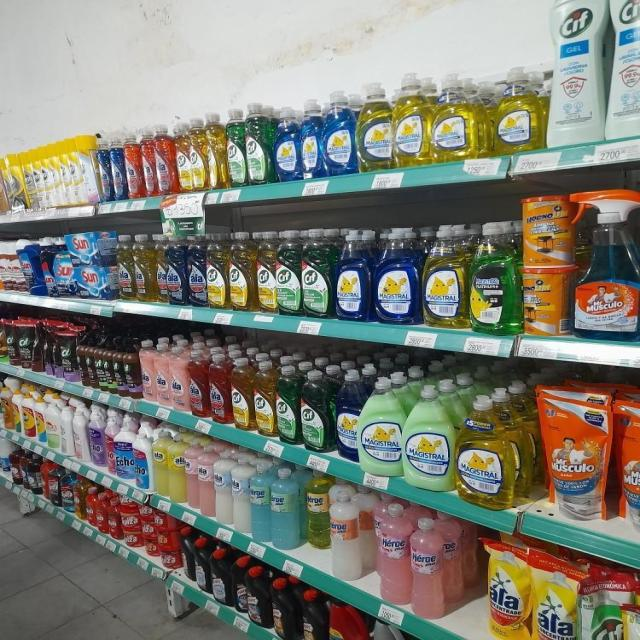ala_conc_amarillo: (134, 233, 154, 302), (118, 233, 134, 300), (154, 233, 168, 304)
ala_conc_azul: (165, 233, 186, 306), (187, 233, 206, 307), (111, 132, 125, 200), (99, 131, 112, 202)
ala_conc_rojo: (209, 352, 230, 423), (156, 122, 175, 196), (189, 350, 208, 418), (125, 127, 141, 199), (141, 125, 156, 197)
ala_crem_blanco: (215, 449, 232, 526)
ala_crem_rosado: (198, 443, 215, 517), (186, 438, 198, 512)
ala_sachet_amarillo: (485, 541, 530, 640), (533, 555, 578, 640)
ala_ultra_rosa: (170, 343, 188, 413), (155, 341, 170, 408)
cif_conc_bot_amarilla: (229, 231, 255, 311), (256, 230, 276, 313), (254, 359, 275, 437), (207, 232, 228, 309), (232, 356, 253, 432), (207, 112, 226, 190), (191, 115, 207, 192), (175, 120, 191, 193)
cif_conc_botella_verde: (302, 228, 334, 319), (302, 368, 332, 452), (246, 102, 272, 185), (277, 229, 301, 316), (276, 364, 300, 446), (227, 106, 246, 188)
cif_conc_sachet_amarillo: (624, 590, 640, 640)
cif_conc_sachet_verde: (582, 570, 622, 640)
heroe: (411, 516, 446, 620), (376, 502, 410, 608), (330, 484, 365, 582), (271, 466, 302, 550), (305, 470, 329, 550), (251, 461, 270, 544)
magistral_con_amarillo: (456, 394, 513, 508), (422, 223, 468, 329), (492, 66, 542, 154), (432, 72, 479, 162), (394, 72, 429, 167), (358, 82, 392, 172)
magistral_con_azul: (374, 227, 420, 325), (336, 228, 372, 322), (323, 88, 355, 177), (273, 104, 300, 182), (336, 368, 358, 462), (300, 98, 322, 180)
magistral_con_crema: (404, 384, 454, 492), (359, 375, 402, 477)
